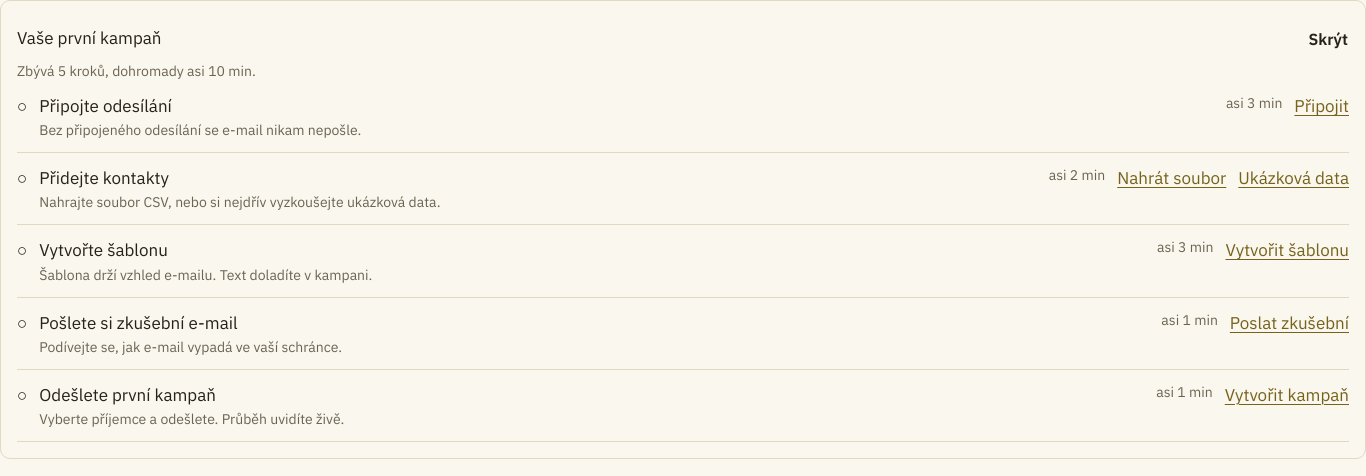
Scenario: OnboardingPanel › panel jde skrýt, ne zavřít, a po skrytí zůstane řádek se stavem
The width and height of the screenshot is (1366, 476).
Step 1. Click the button "Skrýt" → (1328, 39), box x1=1307 y1=17 x2=1349 y2=61
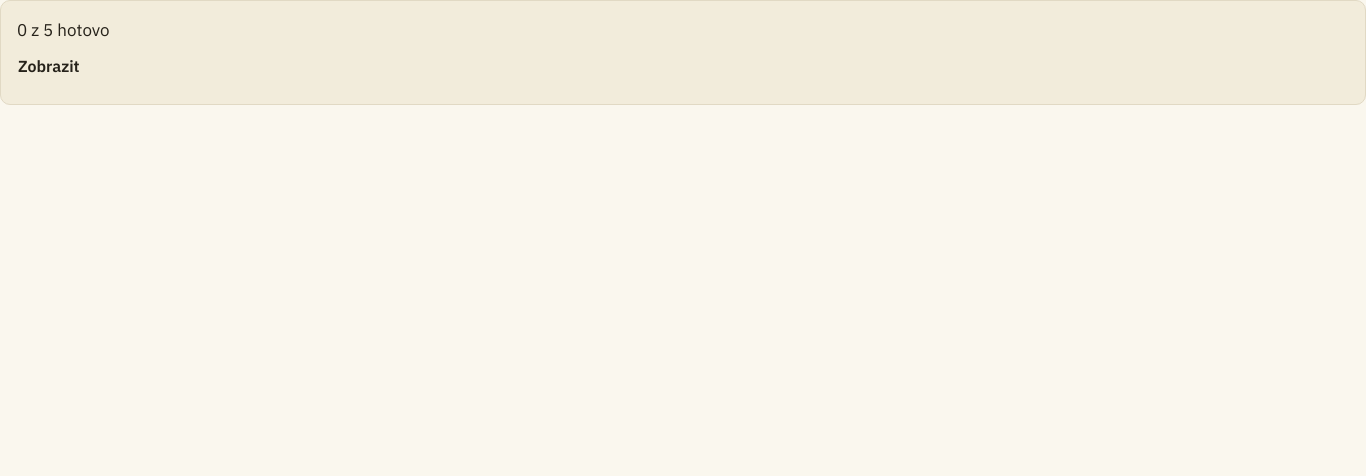
expect the button "Zobrazit" is shown: met, box x1=17 y1=44 x2=81 y2=88
